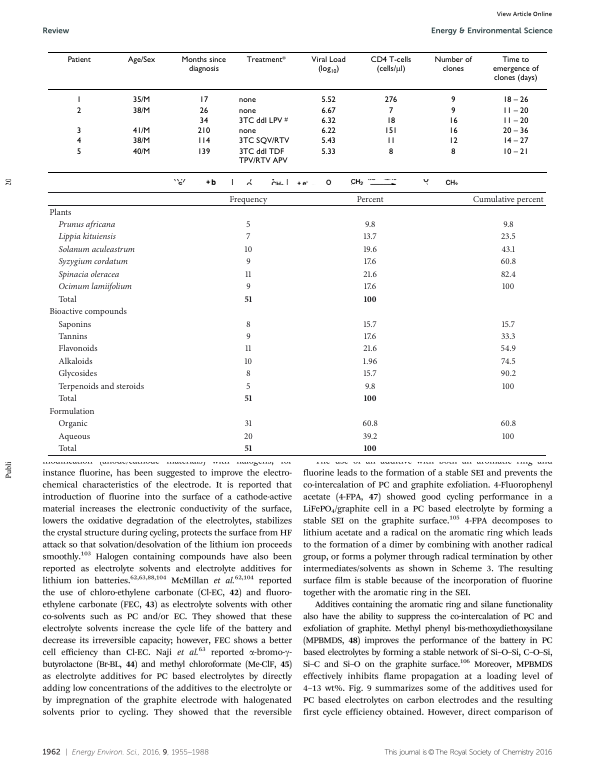borderless: (46, 190, 546, 455), (47, 50, 547, 172)
cell: (491, 54, 539, 83), (57, 381, 145, 392), (238, 146, 288, 165), (369, 53, 412, 75), (48, 306, 128, 317), (180, 54, 226, 73), (57, 244, 136, 255), (57, 281, 133, 292), (472, 194, 545, 205), (310, 54, 346, 75), (433, 54, 472, 73), (57, 257, 129, 267), (57, 269, 120, 280), (57, 219, 116, 230), (57, 232, 117, 242), (238, 136, 290, 146), (48, 406, 95, 417), (238, 115, 288, 125), (229, 194, 268, 205), (57, 344, 99, 354), (245, 54, 286, 64), (57, 369, 98, 379), (57, 356, 94, 367), (57, 431, 91, 442), (57, 418, 89, 429), (57, 319, 92, 329), (57, 331, 88, 342), (356, 194, 385, 205), (126, 54, 156, 64), (502, 95, 529, 105), (502, 105, 529, 115), (502, 126, 529, 136), (502, 136, 529, 146), (502, 146, 529, 156), (66, 54, 91, 64), (502, 116, 529, 125), (48, 207, 72, 217), (57, 294, 78, 305), (57, 443, 78, 454), (57, 394, 78, 404), (132, 95, 151, 105), (132, 105, 151, 115), (132, 126, 151, 136), (132, 136, 151, 146), (132, 146, 151, 156), (500, 269, 517, 280), (500, 356, 517, 367), (362, 418, 379, 429), (500, 418, 517, 429), (238, 95, 256, 105), (238, 105, 256, 115), (238, 126, 256, 136), (362, 244, 378, 255), (362, 269, 378, 280), (500, 331, 516, 342), (362, 356, 378, 367), (362, 431, 378, 442), (500, 232, 517, 242), (500, 257, 517, 267), (500, 344, 517, 354), (500, 369, 517, 379), (501, 244, 516, 255), (320, 95, 336, 105), (320, 105, 336, 115), (320, 126, 336, 136), (320, 136, 336, 146), (320, 146, 336, 156), (362, 344, 378, 354), (363, 281, 377, 292), (501, 281, 515, 292), (363, 331, 377, 342), (501, 381, 515, 392), (501, 431, 515, 442), (383, 95, 398, 105), (196, 126, 211, 136), (383, 126, 398, 136), (196, 136, 211, 146), (196, 146, 211, 156), (363, 232, 378, 242), (363, 319, 378, 329), (501, 319, 516, 329), (363, 369, 378, 379), (320, 116, 336, 125), (502, 219, 515, 230), (363, 257, 377, 267), (363, 443, 378, 452), (364, 219, 376, 230), (364, 381, 376, 392), (243, 431, 254, 442), (363, 294, 378, 302), (363, 394, 378, 402), (198, 95, 209, 105), (198, 105, 209, 115), (385, 136, 396, 146), (448, 126, 458, 136), (448, 136, 458, 146), (198, 116, 209, 125), (385, 116, 396, 125), (244, 244, 253, 255), (244, 356, 253, 367), (244, 418, 253, 429), (448, 116, 458, 125), (244, 269, 252, 280), (244, 443, 253, 452), (244, 344, 252, 354), (245, 281, 252, 292), (245, 331, 252, 342), (244, 294, 253, 302), (244, 394, 253, 402), (387, 105, 394, 115), (387, 146, 394, 156), (245, 257, 252, 267), (245, 319, 252, 329), (245, 369, 252, 379), (245, 219, 251, 230), (245, 381, 251, 392), (76, 95, 82, 105), (450, 95, 456, 105), (76, 105, 82, 115), (450, 105, 456, 115), (76, 126, 82, 136), (76, 136, 82, 146), (76, 146, 82, 156), (450, 146, 456, 156), (245, 232, 251, 242)
